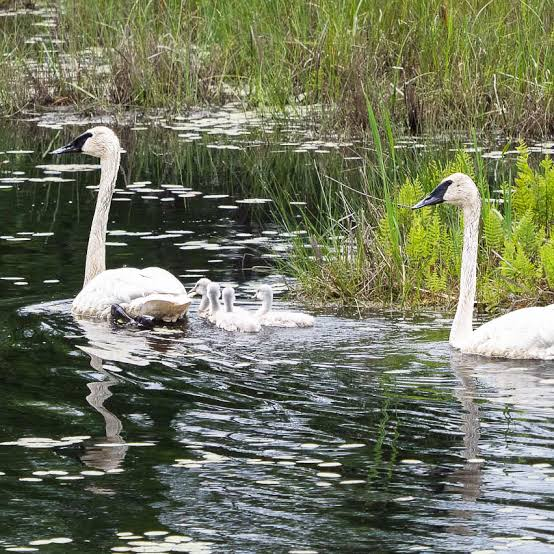swan: (51, 124, 194, 327), (412, 172, 554, 360), (247, 281, 315, 328), (216, 282, 254, 331), (198, 285, 230, 326), (187, 277, 215, 315), (209, 282, 235, 315)
